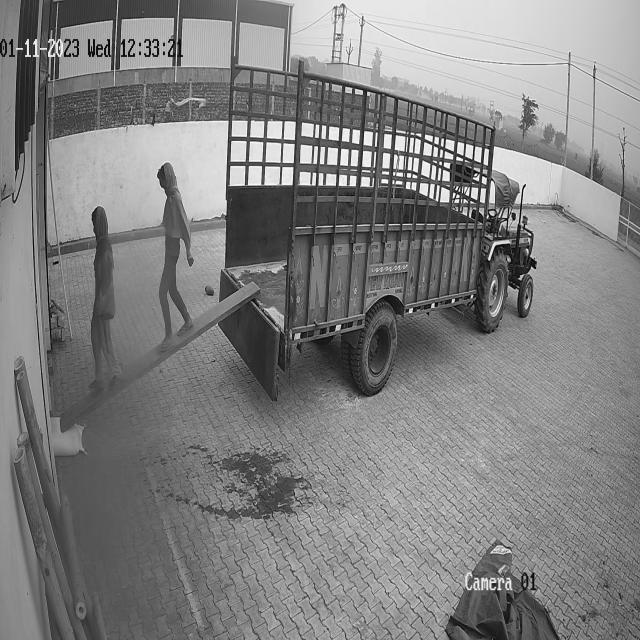sack: (49, 417, 82, 456)
